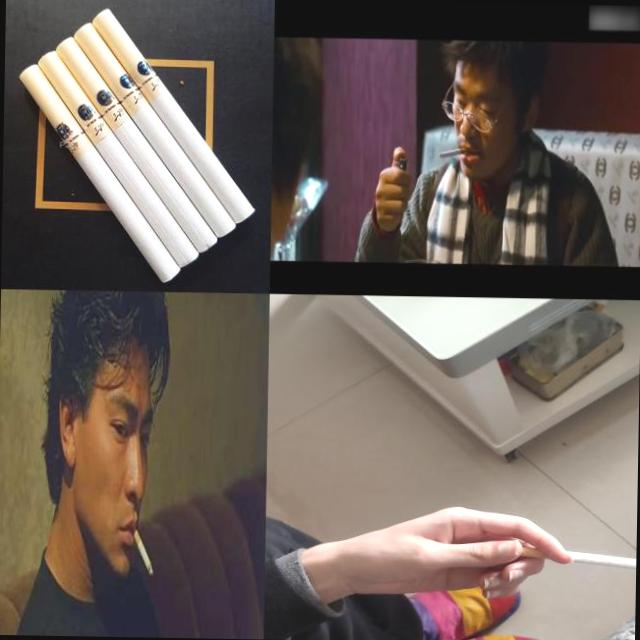cigarette: (15, 62, 185, 282), (52, 36, 222, 255), (35, 50, 204, 269), (88, 8, 259, 224), (70, 22, 240, 238), (343, 496, 637, 605), (132, 524, 154, 578), (436, 144, 469, 164)
